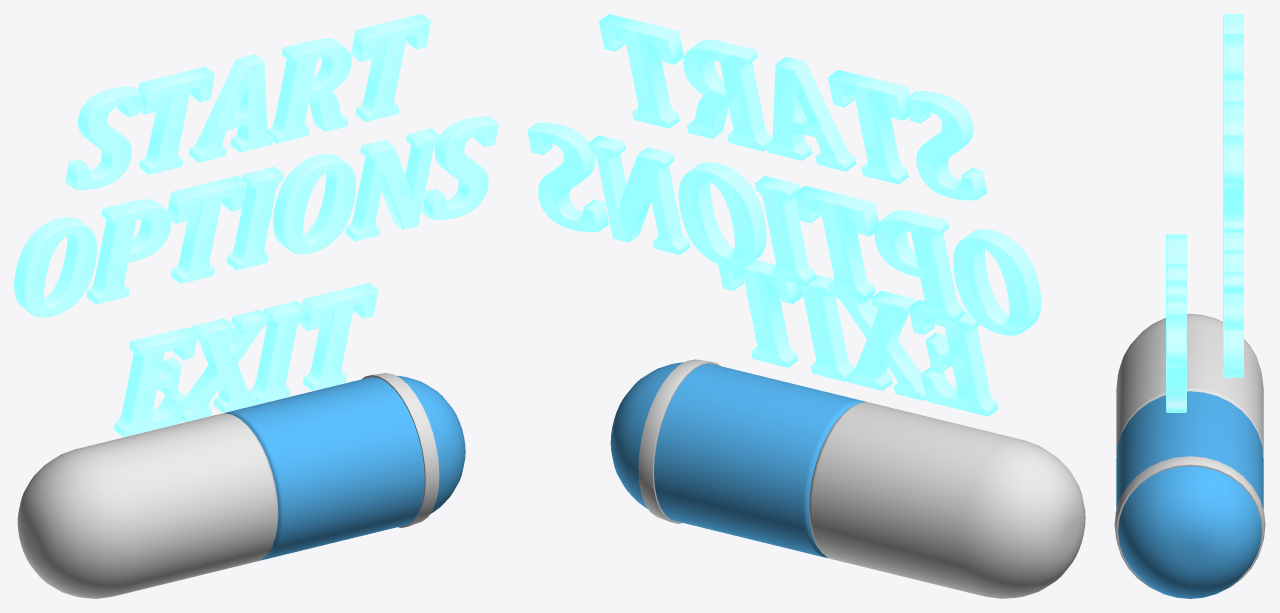
The model's file is main-menu.fbx.
The picture shows the model from 3 angles, left to right: view 1: azimuth 30°, elevation 25°; view 2: azimuth 150°, elevation 25°; view 3: azimuth 270°, elevation 25°; orthographic projection. The views are drawn at different scales.
Parts seen in each view (by area): view 1: Cylinder.002, Text.002, Cylinder.004, Text.001, Text.003; view 2: Cylinder.002, Text.002, Cylinder.004, Text.001, Text.003; view 3: Cylinder.004, Cylinder.002, Text.001, Text.003, Text.002.
Boxes of the visible parts, x1=… form: Cylinder.002: x1=17, y1=413, x2=278, y2=598; Text.002: x1=14, y1=116, x2=498, y2=317; Cylinder.004: x1=224, y1=373, x2=465, y2=560; Text.001: x1=65, y1=14, x2=431, y2=189; Text.003: x1=113, y1=283, x2=378, y2=436; Cylinder.002: x1=809, y1=402, x2=1085, y2=598; Text.002: x1=527, y1=122, x2=1041, y2=335; Cylinder.004: x1=610, y1=359, x2=865, y2=558; Text.001: x1=599, y1=14, x2=987, y2=200; Text.003: x1=718, y1=260, x2=998, y2=416; Cylinder.004: x1=1114, y1=391, x2=1265, y2=598; Cylinder.002: x1=1116, y1=313, x2=1263, y2=454; Text.001: x1=1223, y1=14, x2=1243, y2=232; Text.003: x1=1166, y1=234, x2=1186, y2=412; Text.002: x1=1223, y1=231, x2=1243, y2=377.
Bounding box in the file's own units: 872 × 814 × 244.
